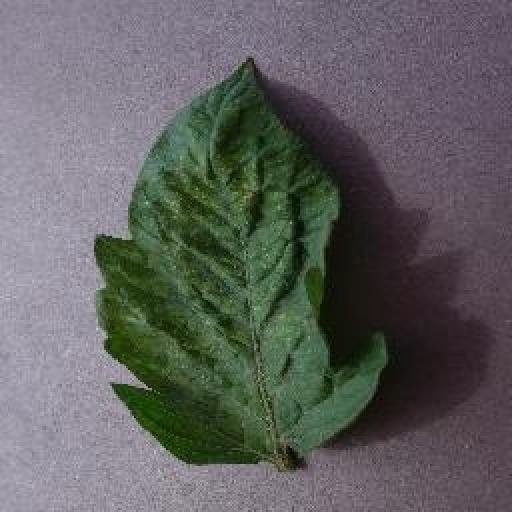disease_tomato: (94, 59, 390, 465)
